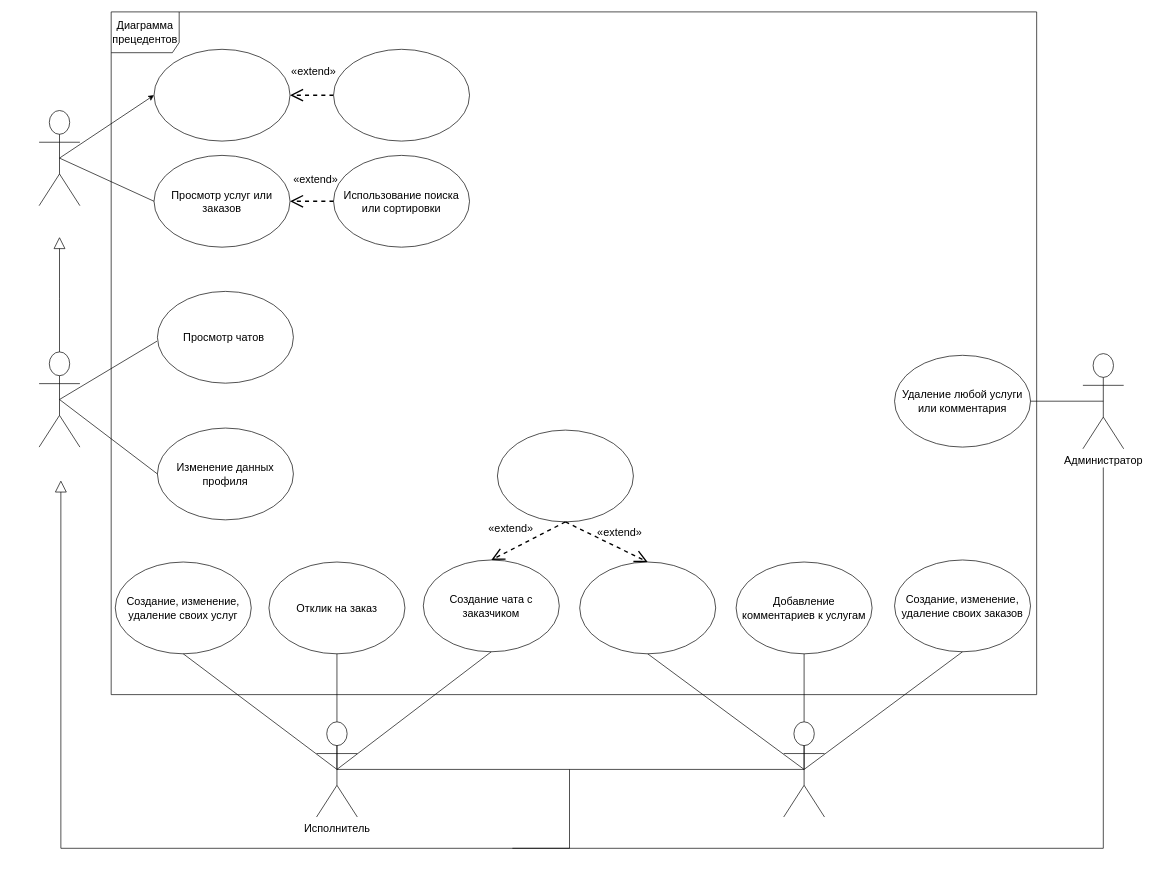
This 1154x872 diagram has some shape labels left out. The shapes that lost their labels are listed below. From the top down, each one's centre as x and y in pixels, then its label:
pixel 221 95: Авторизация
pixel 401 95: Регистрация
pixel 59 158: Неавторизованный Пользователь
pixel 59 399: Авторизованный Пользователь
pixel 565 475: Взаимодействие между заказчиком и исполнителем
pixel 647 607: Создание чата с исполнителем
pixel 804 769: Заказчик
